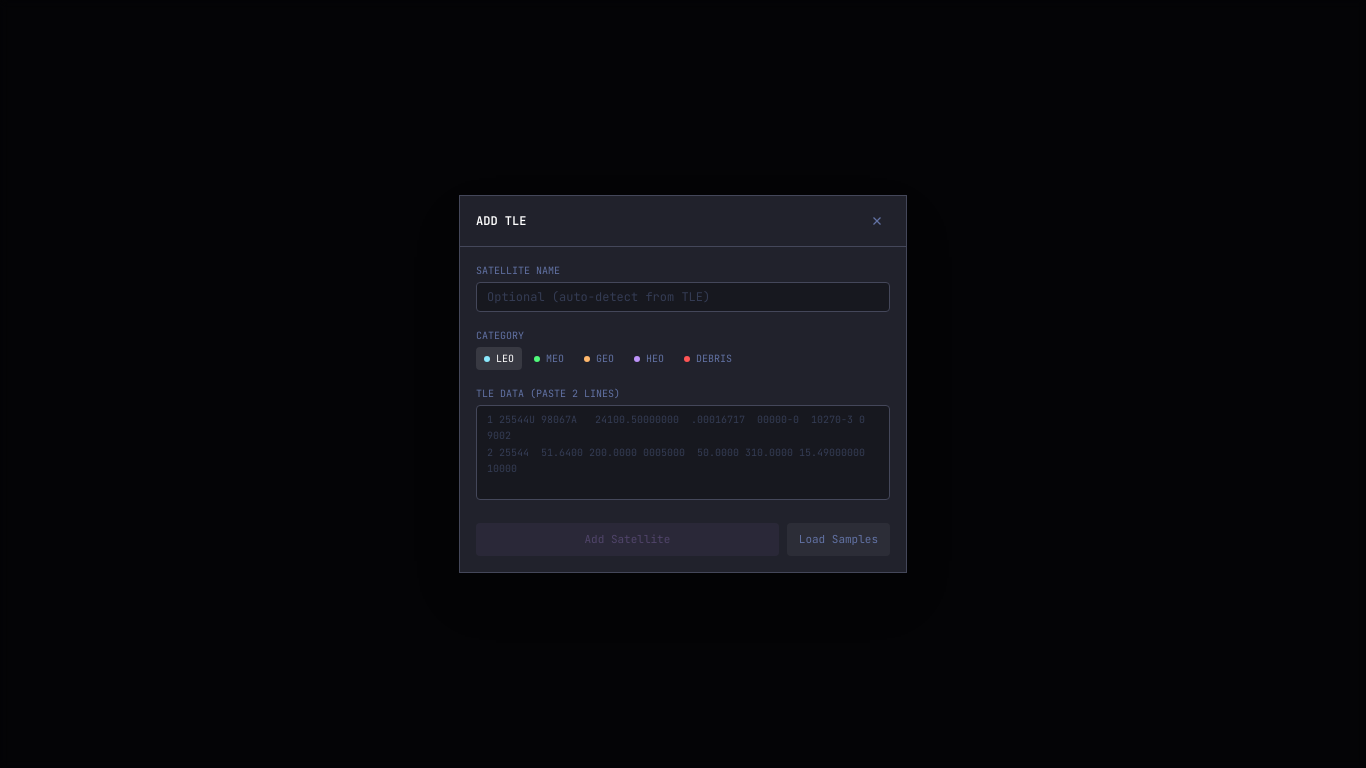
Scenario: TLEInput › type TLE textarea enables Add Satellite button
The image size is (1366, 768).
In the text box with placeholder "1 25544U": (683, 453) [476,405,890,500], type "1 25544U 98067A"
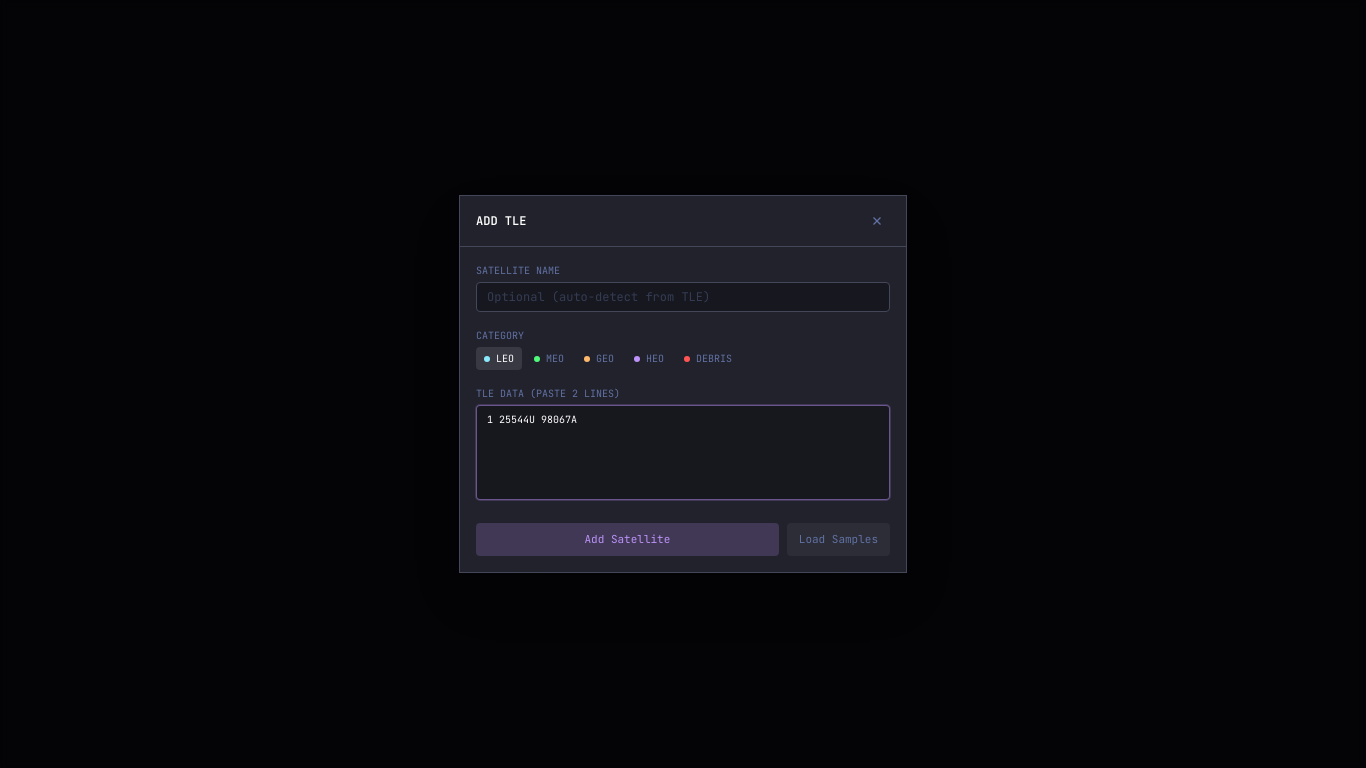
Check: the button "Add Satellite" is enabled, box [476,523,779,556]
